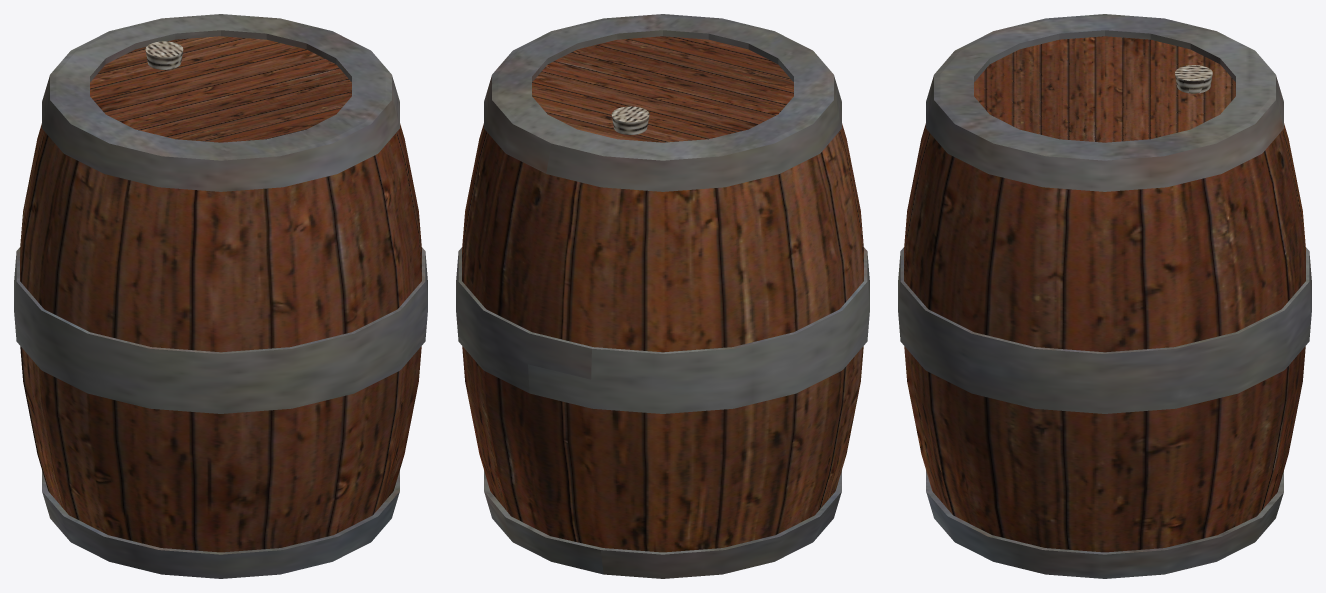
File: Barrel.FBX
3 renders of one model, left to right at view 1: azimuth 30°, elevation 25°; view 2: azimuth 150°, elevation 25°; view 3: azimuth 270°, elevation 25°, orthographic.
Parts seen in each view (by area): view 1: Cylinder001, Cone001; view 2: Cylinder001, Cone001; view 3: Cylinder001, Cone001.
Part boxes in pixels (bbox=[...]): Cylinder001: bbox=[14, 14, 427, 578]; Cone001: bbox=[145, 41, 183, 69]; Cylinder001: bbox=[456, 14, 869, 578]; Cone001: bbox=[611, 106, 649, 134]; Cylinder001: bbox=[898, 14, 1311, 578]; Cone001: bbox=[1175, 65, 1212, 93].
Size of the model in its own units: 247 by 277 by 243.
Materials: 3 (3 with a texture image).
